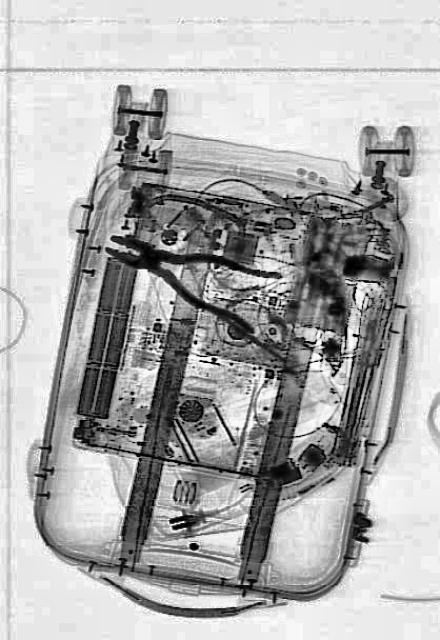Pliers: (98, 206, 282, 340)
